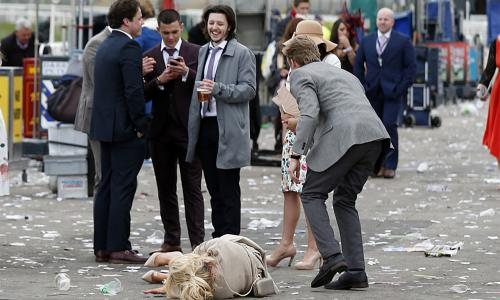fall: (128, 225, 279, 300)
